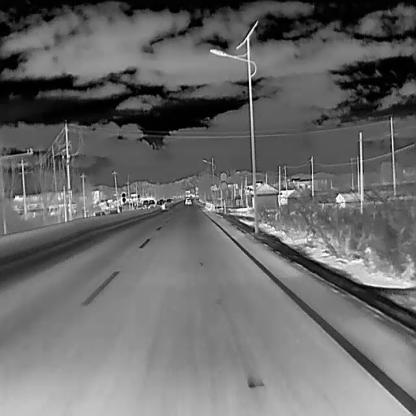car: (155, 199, 163, 206), (148, 199, 155, 207), (142, 199, 148, 208), (166, 197, 173, 204), (185, 197, 191, 204), (159, 198, 165, 203)
